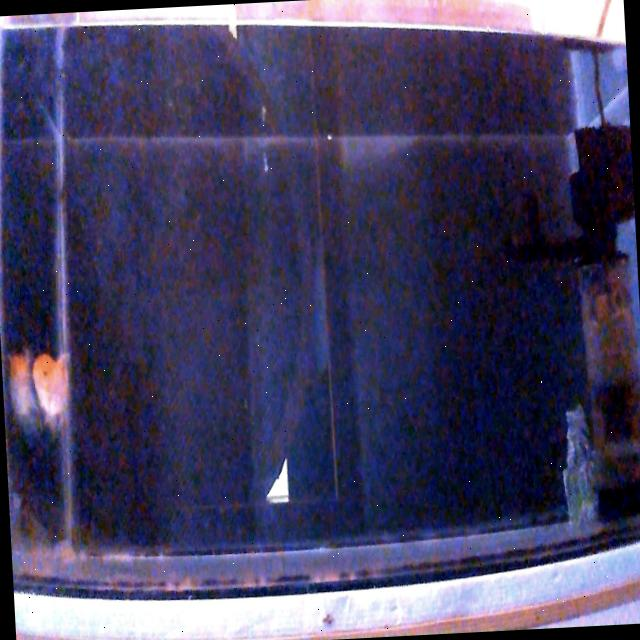fish: (30, 350, 73, 422), (6, 348, 32, 427)
